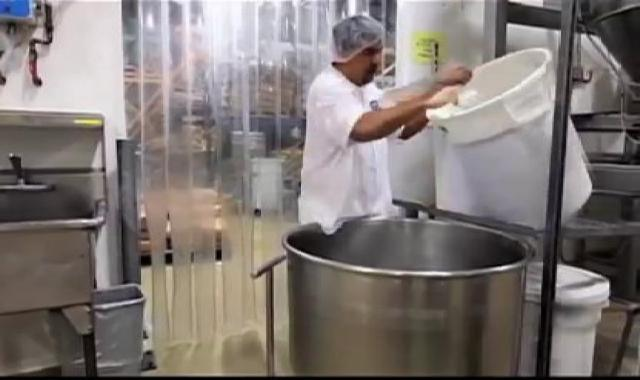hairnet: (317, 12, 392, 71)
